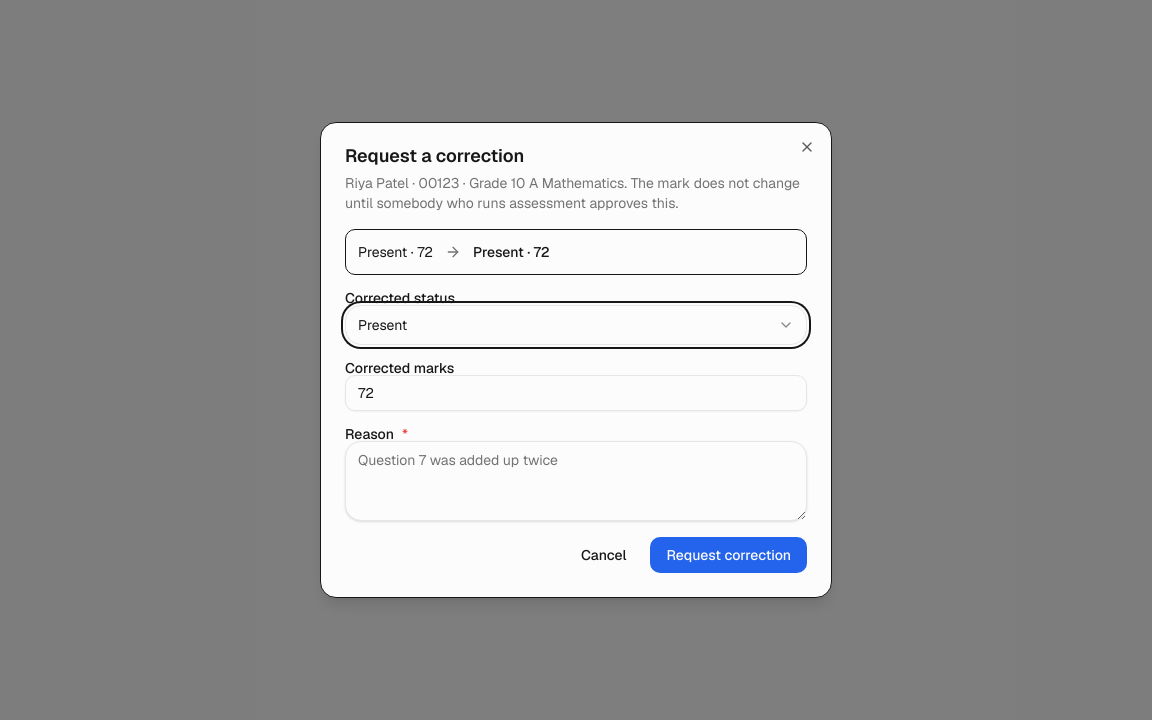
Scenario: requesting a correction › requires a reason
Step 1. Click the button "Request correction" → click(729, 555), box [650,537,807,573]
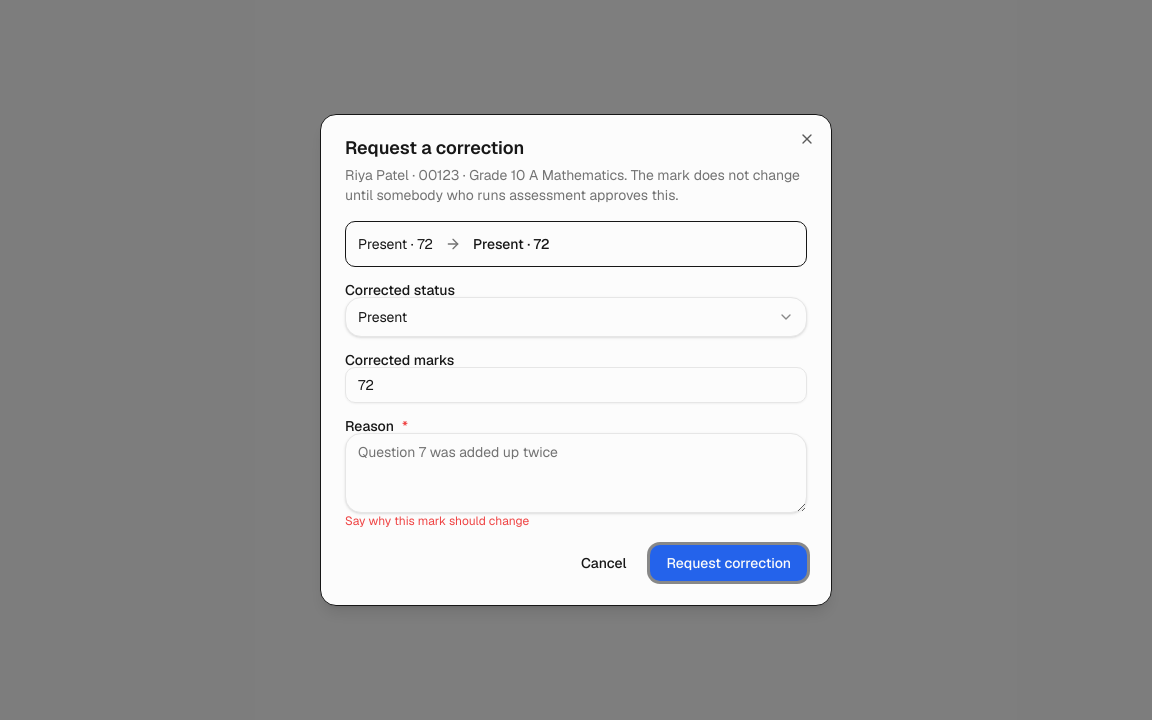
Expected: the text "Say why this mark should change" is shown, [345,513,529,529]
